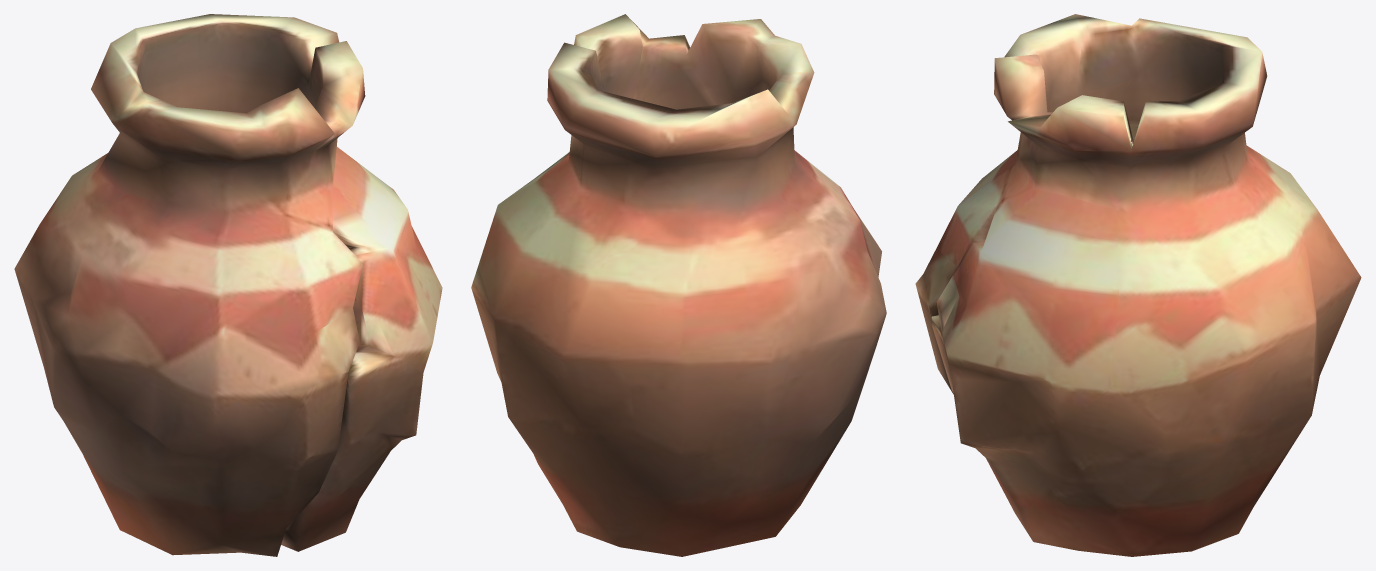
File: container_urn.glb
3 views of the same model, side by side, from view 1: azimuth 30°, elevation 25°; view 2: azimuth 150°, elevation 25°; view 3: azimuth 270°, elevation 25° (orthographic).
Visible parts, largest first — view 1: container_urn; view 2: container_urn; view 3: container_urn.
Part boxes in pixels (x1,y1,x2,y2): container_urn: (14,14,442,556); container_urn: (471,14,886,556); container_urn: (915,14,1361,556).
Bounding box in the file's own units: 0.7782 × 0.9 × 0.8072.
Materials: 1 (1 with a texture image).
